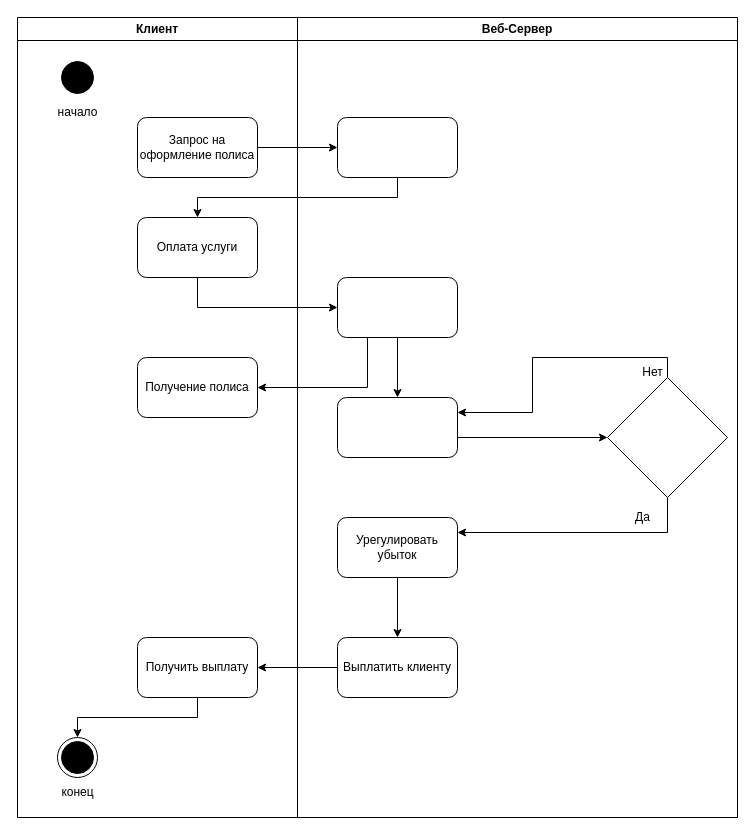
This 755x835 diagram has some shape labels left out. Each missing label, with the box of its shape:
Выдача полиса: (336, 276, 458, 338)
Наступил ли страховой случай?: (606, 376, 728, 498)
Обслуживание в течении срока: (336, 396, 458, 458)
Расчет и оформление: (336, 116, 458, 178)
